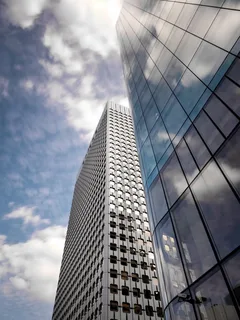high_rise_building: (104, 4, 240, 316), (46, 94, 150, 313)
